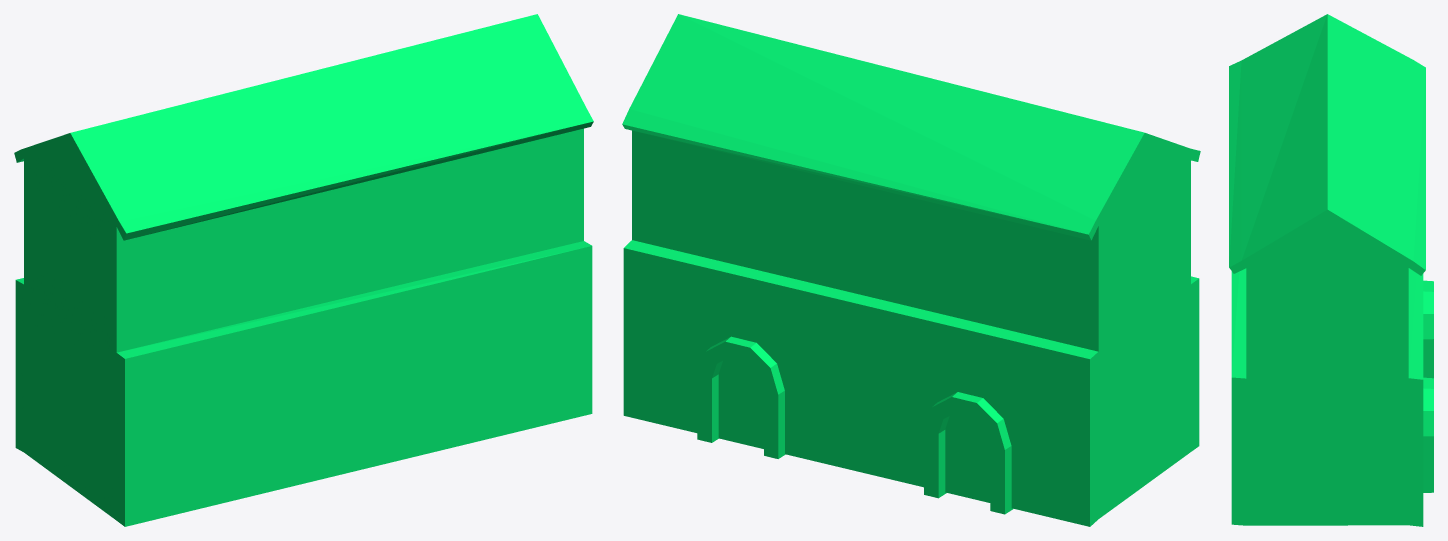
File: Garnison_Collision.FBX
3 renders of one model, left to right at view 1: azimuth 30°, elevation 25°; view 2: azimuth 150°, elevation 25°; view 3: azimuth 270°, elevation 25°, orthographic. The views are drawn at different scales.
Visible parts, largest first — view 1: Garison_Collision; view 2: Garison_Collision; view 3: Garison_Collision.
Boxes of the visible parts, x1=… form: Garison_Collision: x1=14, y1=14, x2=593, y2=526; Garison_Collision: x1=622, y1=14, x2=1200, y2=526; Garison_Collision: x1=1229, y1=14, x2=1433, y2=526.
Size of the model in its own units: 17.96 by 13.3 by 7.78.
